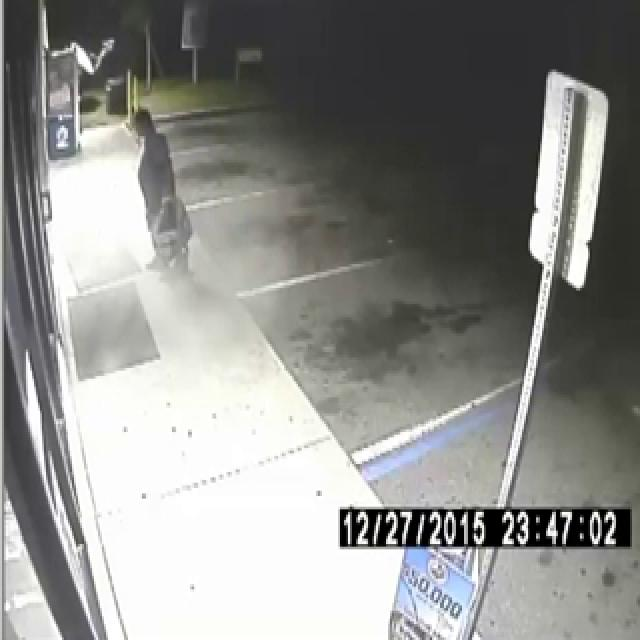vandalism: (48, 56, 369, 494)
